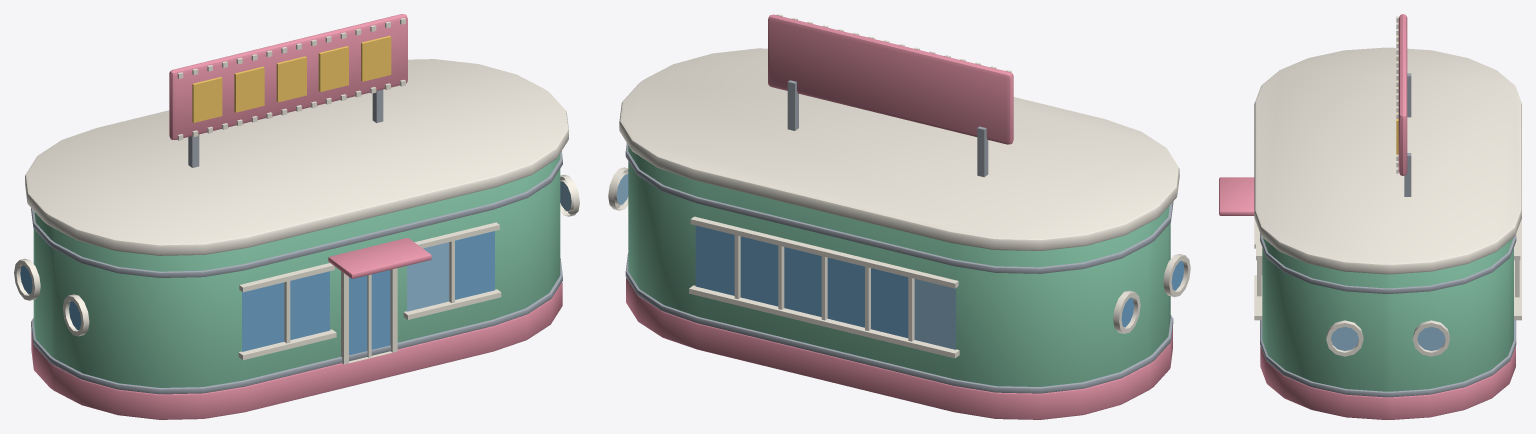
File: building_diner.glb
3 views of the same model, side by side, from view 1: azimuth 30°, elevation 25°; view 2: azimuth 150°, elevation 25°; view 3: azimuth 270°, elevation 25° (orthographic). The views are drawn at different scales.
Visible parts, largest first — view 1: building; view 2: building; view 3: building.
Boxes of the visible parts, x1,y1,x2,y2 form: building: [14, 14, 579, 419]; building: [608, 14, 1190, 419]; building: [1219, 14, 1521, 419].
Size of the model in its own units: 13.1 by 7.03 by 7.7.
